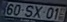0: (12, 3, 21, 16), (45, 6, 54, 19)
1: (53, 7, 59, 20)
6: (5, 3, 14, 15)
S: (24, 4, 34, 17)
X: (31, 5, 43, 18)
